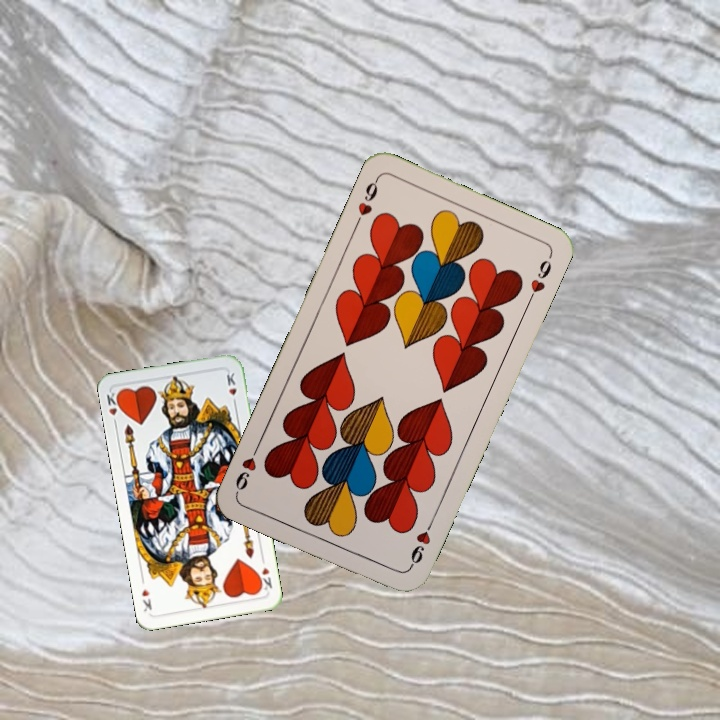H9: (350, 174, 382, 230), (405, 516, 437, 572)
HK: (103, 387, 124, 429), (254, 554, 275, 594)
